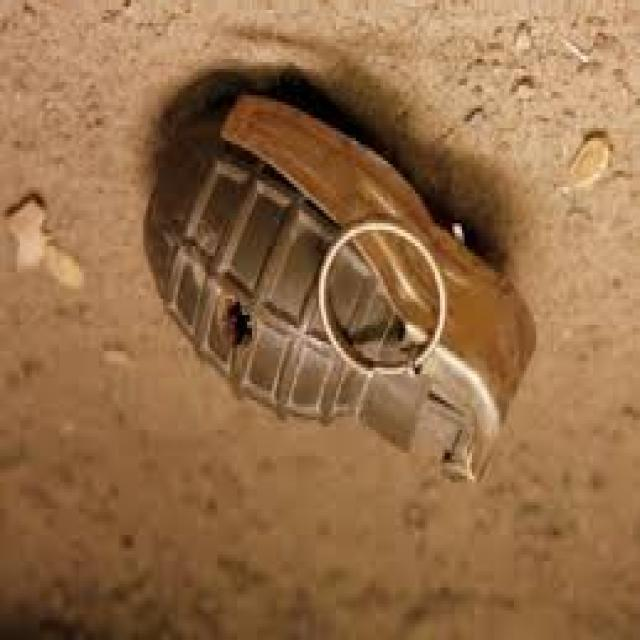grenade: (139, 65, 545, 495)
